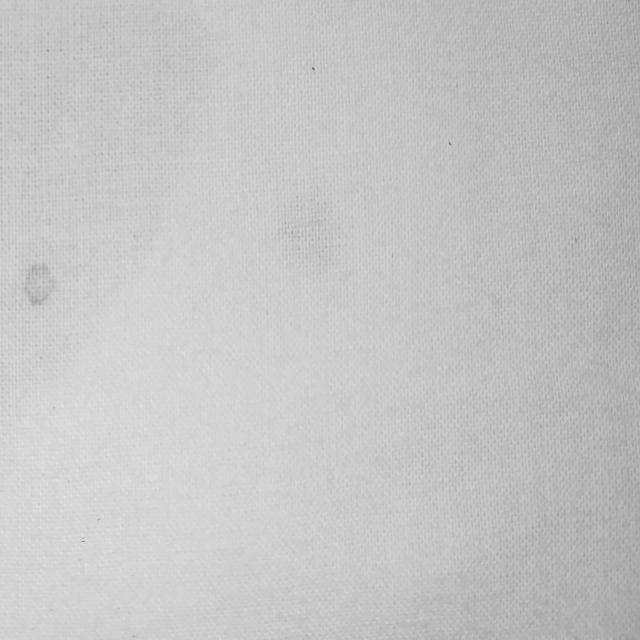Stain: (24, 264, 53, 305)
